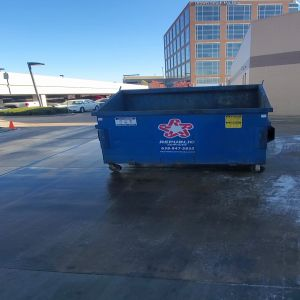Dumpster: (93, 84, 277, 173)
